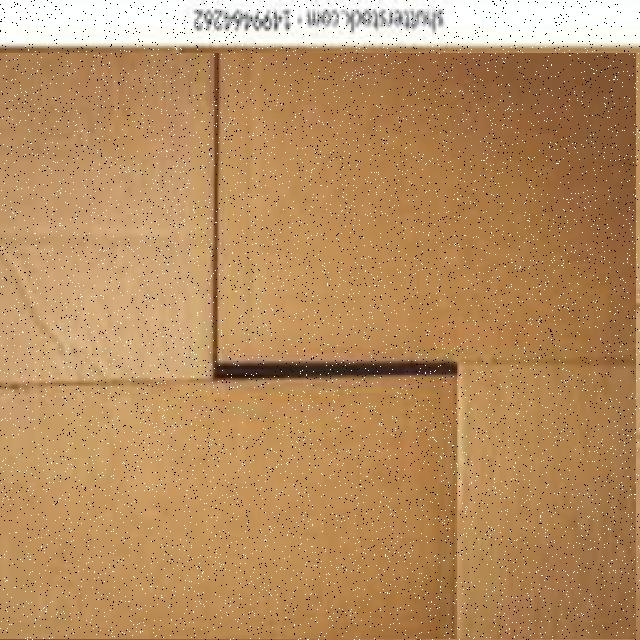defect: (0, 53, 636, 639)
